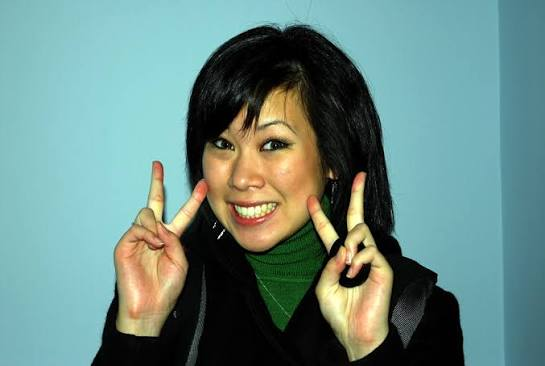peace_sign: (302, 172, 402, 333), (111, 153, 207, 317)
